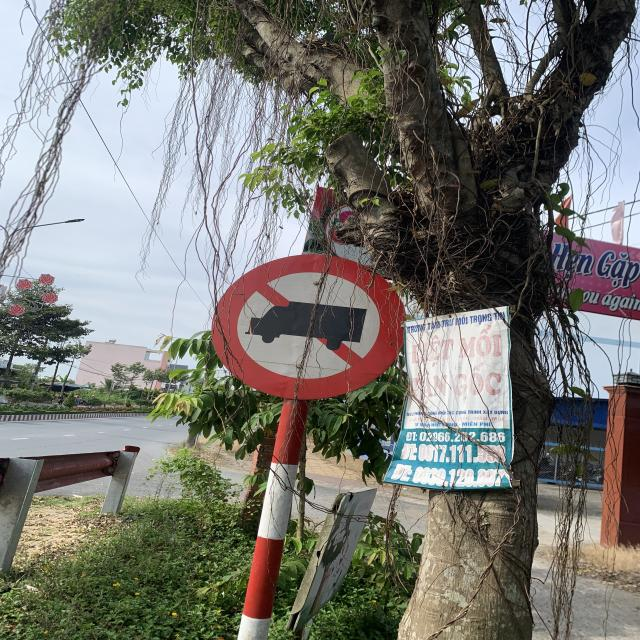Cam_Xe_Tai: (206, 251, 405, 399)
